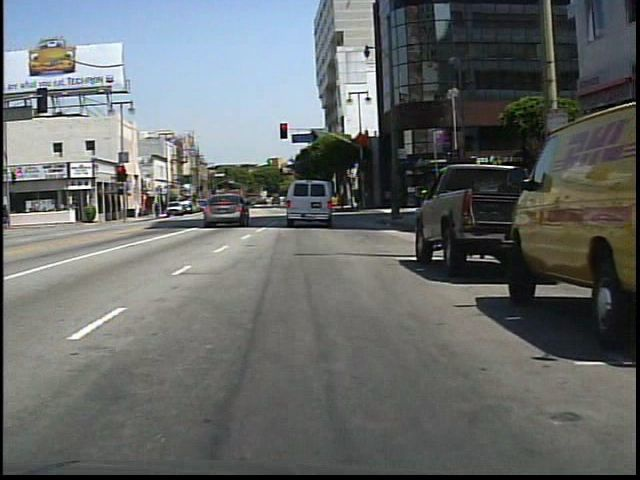person: (299, 185, 319, 222), (239, 193, 254, 218), (5, 202, 15, 230)
